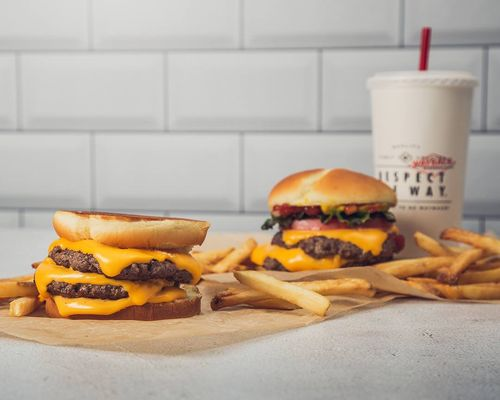pizza: (366, 69, 479, 239)
soup: (255, 167, 405, 270)
